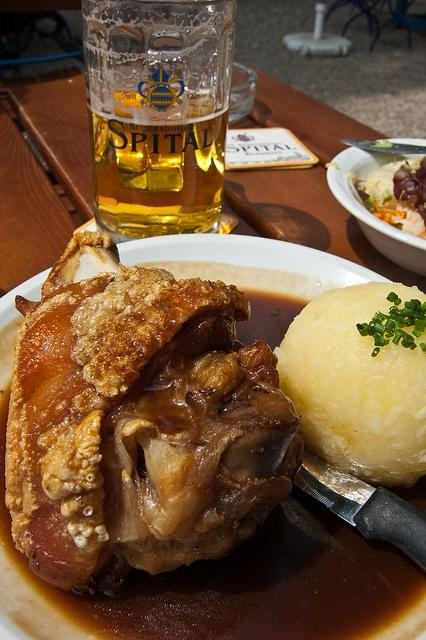green onion: (378, 311, 406, 323), (384, 318, 396, 334), (374, 322, 388, 335), (401, 335, 414, 347), (358, 322, 368, 337), (392, 331, 402, 345), (414, 320, 425, 332), (374, 335, 385, 346), (386, 292, 398, 302), (405, 318, 415, 328), (412, 327, 421, 338), (371, 347, 380, 357), (417, 306, 426, 316), (398, 329, 408, 338), (372, 312, 383, 320), (410, 299, 422, 306), (394, 321, 400, 332), (394, 298, 402, 306), (420, 342, 426, 352), (398, 321, 405, 328), (374, 318, 382, 324), (390, 306, 398, 312), (356, 324, 364, 329)
